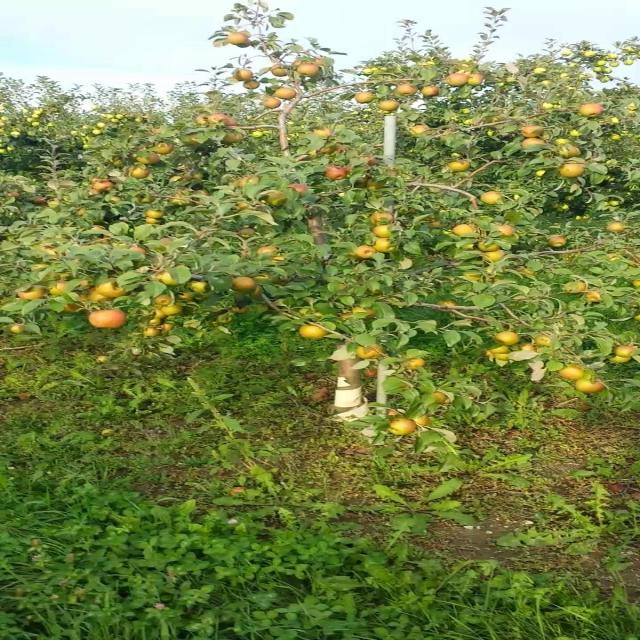apple: (92, 312, 128, 329), (298, 324, 327, 340), (355, 344, 384, 360), (390, 420, 418, 436), (262, 192, 290, 208), (561, 280, 590, 294), (575, 380, 604, 393), (99, 284, 128, 297), (49, 280, 71, 296), (348, 308, 377, 320), (561, 164, 585, 178), (156, 272, 178, 287), (20, 288, 46, 300), (84, 292, 110, 304), (483, 252, 507, 264), (454, 224, 478, 236), (227, 32, 249, 45), (276, 88, 299, 100), (532, 336, 555, 348), (397, 84, 420, 96), (404, 360, 427, 372), (355, 92, 377, 104), (376, 240, 398, 252), (547, 236, 569, 248), (561, 368, 583, 380), (376, 212, 398, 224), (497, 332, 519, 344), (298, 64, 320, 76), (355, 248, 377, 260), (412, 416, 434, 428), (163, 304, 185, 316), (582, 104, 604, 116), (525, 124, 546, 136), (326, 168, 347, 180), (191, 280, 210, 293), (234, 280, 256, 291), (92, 180, 114, 191), (561, 148, 583, 159), (483, 192, 503, 204), (440, 300, 460, 312), (461, 272, 484, 282), (447, 76, 466, 88), (497, 224, 516, 236), (518, 268, 537, 280), (234, 72, 256, 82), (156, 144, 176, 155), (234, 200, 254, 211), (241, 176, 261, 187), (227, 132, 245, 144), (156, 296, 176, 306), (42, 248, 62, 258), (312, 128, 334, 137), (476, 244, 500, 252), (412, 124, 428, 136), (77, 280, 96, 290), (525, 140, 548, 148), (141, 156, 164, 164), (454, 160, 469, 172), (383, 100, 398, 112), (134, 168, 149, 180), (433, 392, 448, 404), (248, 288, 263, 300), (468, 76, 484, 87), (127, 248, 149, 256), (611, 356, 633, 364), (518, 344, 540, 352), (177, 292, 196, 301), (376, 228, 393, 238), (362, 156, 379, 166), (269, 68, 290, 76), (141, 328, 162, 336), (63, 304, 84, 312), (589, 292, 604, 303), (13, 324, 28, 335), (369, 180, 384, 191), (333, 144, 348, 155), (227, 116, 240, 128), (490, 348, 512, 355), (291, 184, 308, 193), (241, 228, 256, 238), (618, 348, 636, 356), (170, 176, 188, 184), (212, 116, 229, 124), (269, 256, 286, 264), (461, 244, 478, 252), (497, 352, 512, 361), (248, 80, 261, 90), (426, 88, 441, 96), (269, 100, 284, 108), (611, 224, 626, 232), (6, 192, 21, 200), (141, 196, 156, 204), (35, 264, 50, 272), (35, 196, 48, 205), (148, 320, 164, 327), (369, 368, 379, 379), (156, 308, 167, 318), (262, 248, 277, 255), (234, 308, 249, 315), (312, 60, 327, 67), (49, 200, 62, 208), (163, 324, 176, 332), (319, 148, 336, 154), (554, 140, 571, 146), (255, 276, 272, 282), (198, 116, 210, 124), (348, 164, 356, 175), (148, 212, 164, 217), (77, 208, 87, 216), (568, 132, 581, 137), (483, 352, 496, 357), (390, 412, 402, 417), (92, 228, 107, 232), (148, 220, 162, 224), (611, 256, 620, 261), (163, 240, 172, 244), (540, 172, 548, 176)
